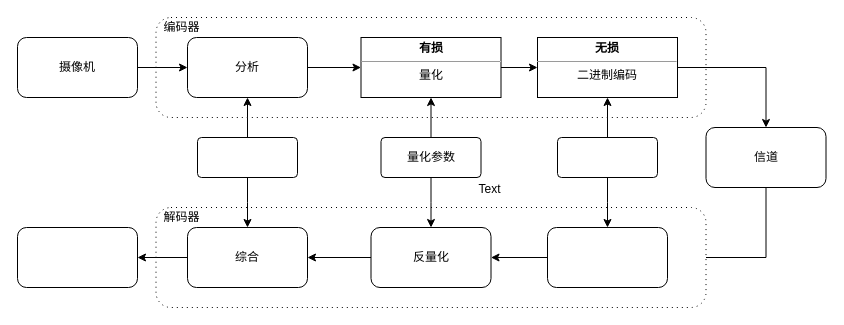
Some shapes in this 844 by 325 pixel diagram are drawn without their labels. The centre of each missing label's shape, as x and y in pixels:
"二进制编码" goes at (607,257).
"信源模型" goes at (247,157).
"参数统计" goes at (607,157).
"显示器" goes at (77,257).
